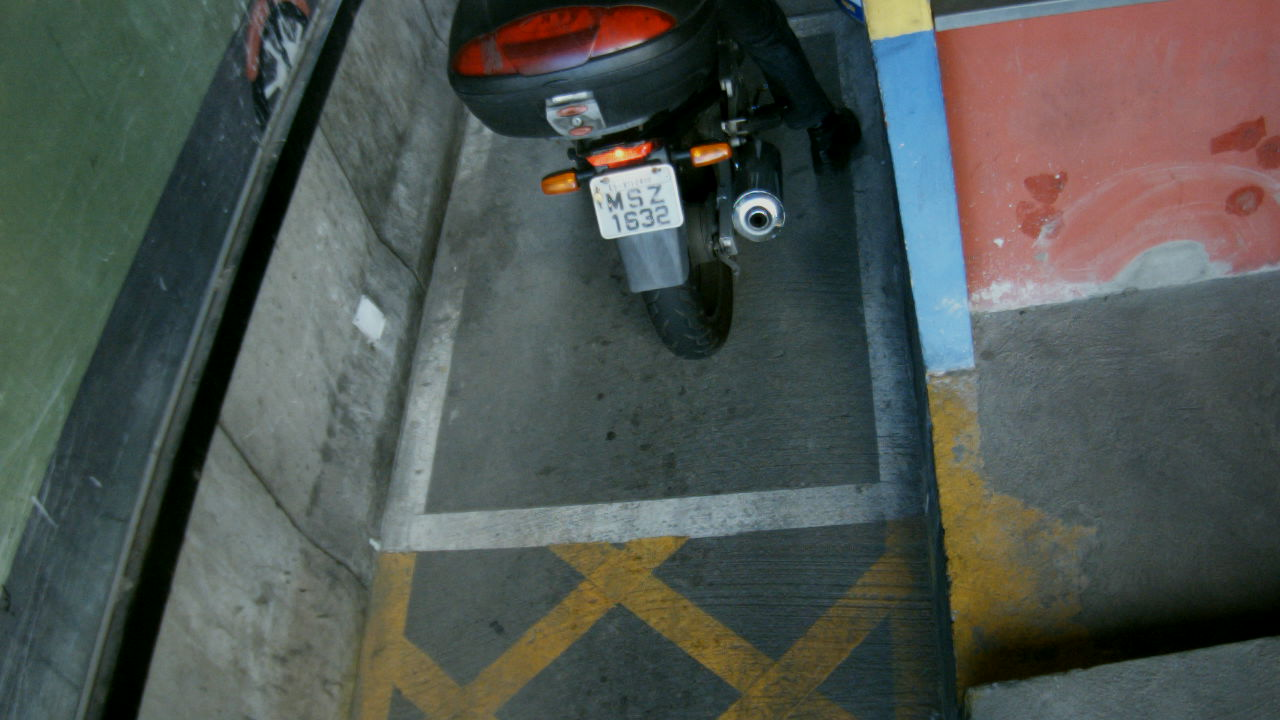placa: (587, 162, 687, 241)
